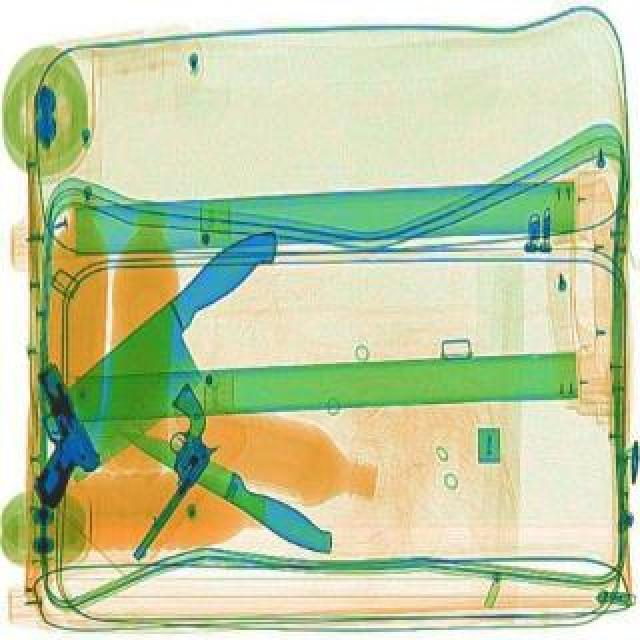gun: (88, 378, 240, 562), (8, 356, 112, 510)
knife: (14, 204, 322, 492), (110, 404, 344, 566)
